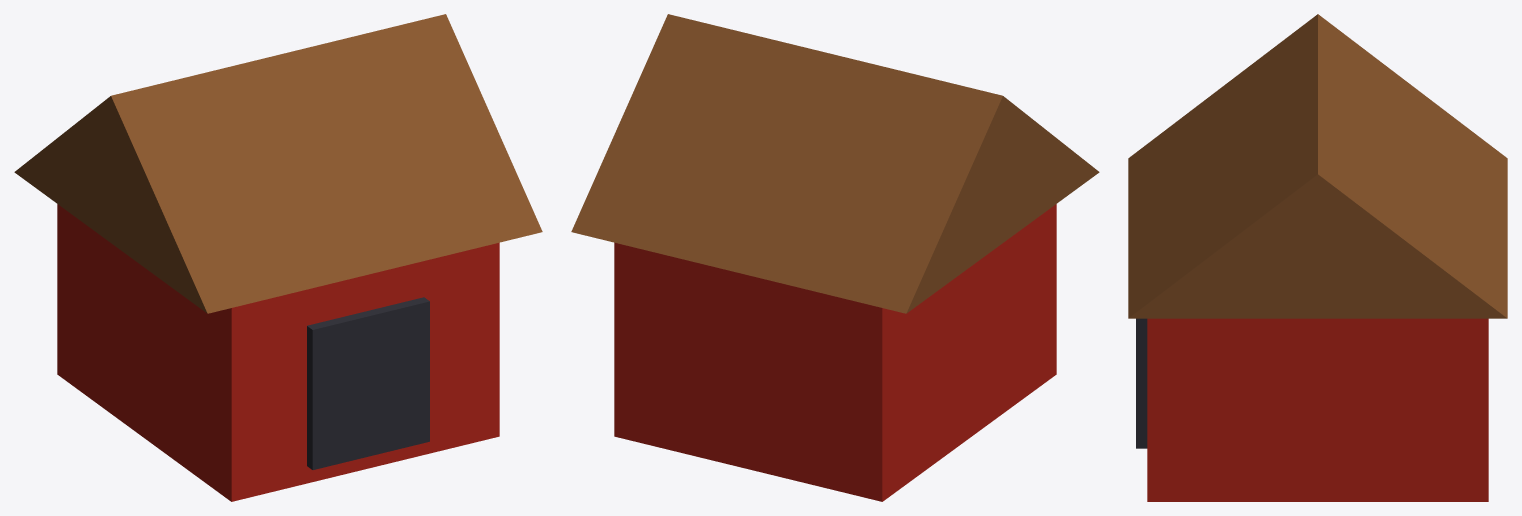
Rendered from dog_house.glb.
3 views of the same model, side by side, from view 1: azimuth 30°, elevation 25°; view 2: azimuth 150°, elevation 25°; view 3: azimuth 270°, elevation 25° (orthographic). The views are drawn at different scales.
Visible parts, largest first — view 1: dog_house; view 2: dog_house; view 3: dog_house.
Part boxes in pixels (box(x1,y1,x2,y2)): dog_house: box(14, 14, 542, 501); dog_house: box(571, 14, 1099, 501); dog_house: box(1128, 14, 1507, 501).
Bounding box in the file's own units: 1 × 1 × 1.
